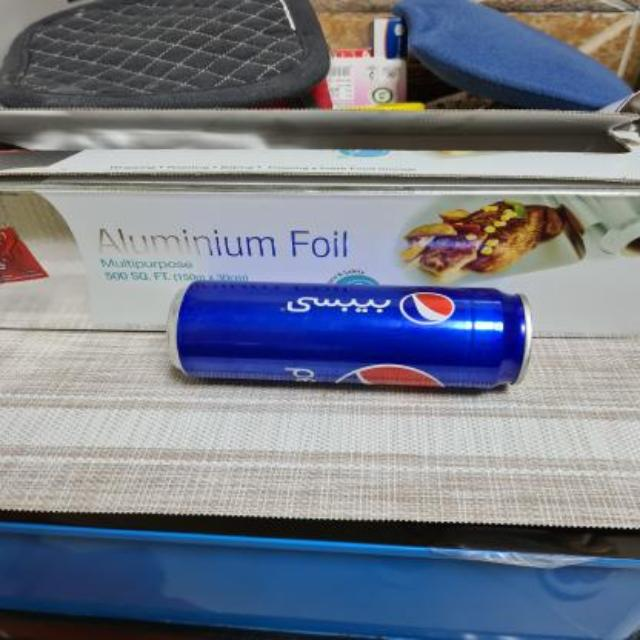metal: (168, 282, 531, 388)
